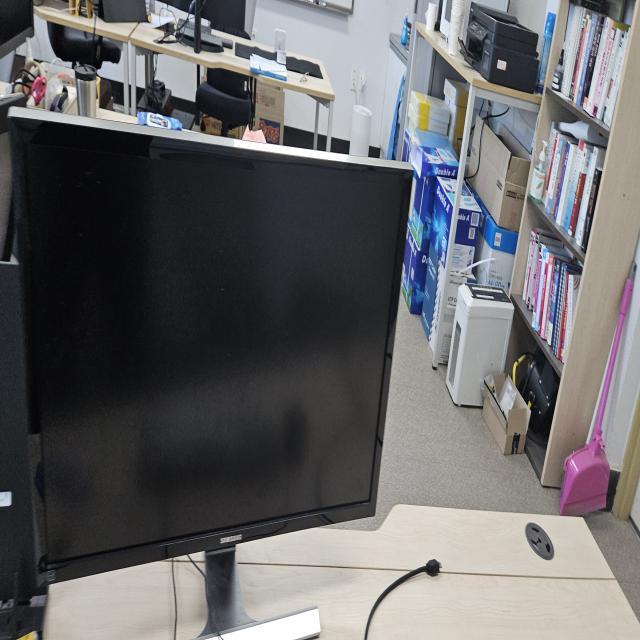Monitor: (5, 100, 415, 630)
